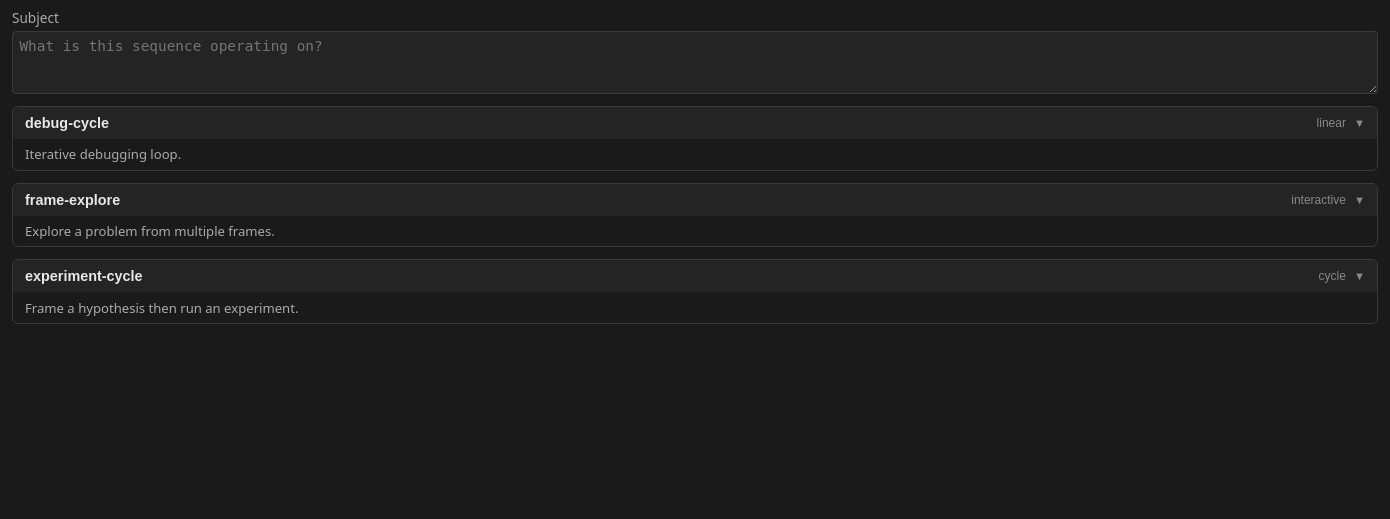
Test case: SequencesPanel › clicking a card header expands its steps
Click the button with class "seq-card-header" showing "debug-cycle linear ▼" at (67, 123), box [13,107,1377,139]
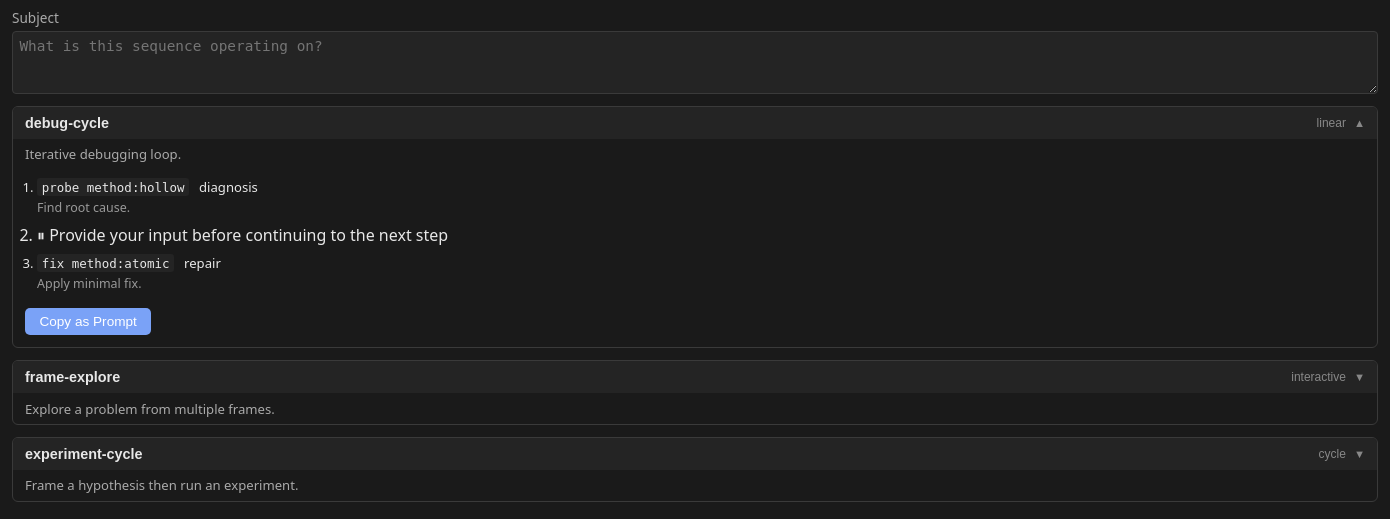
Result: the list with class "seq-steps" is shown at [37,178,448,292]
